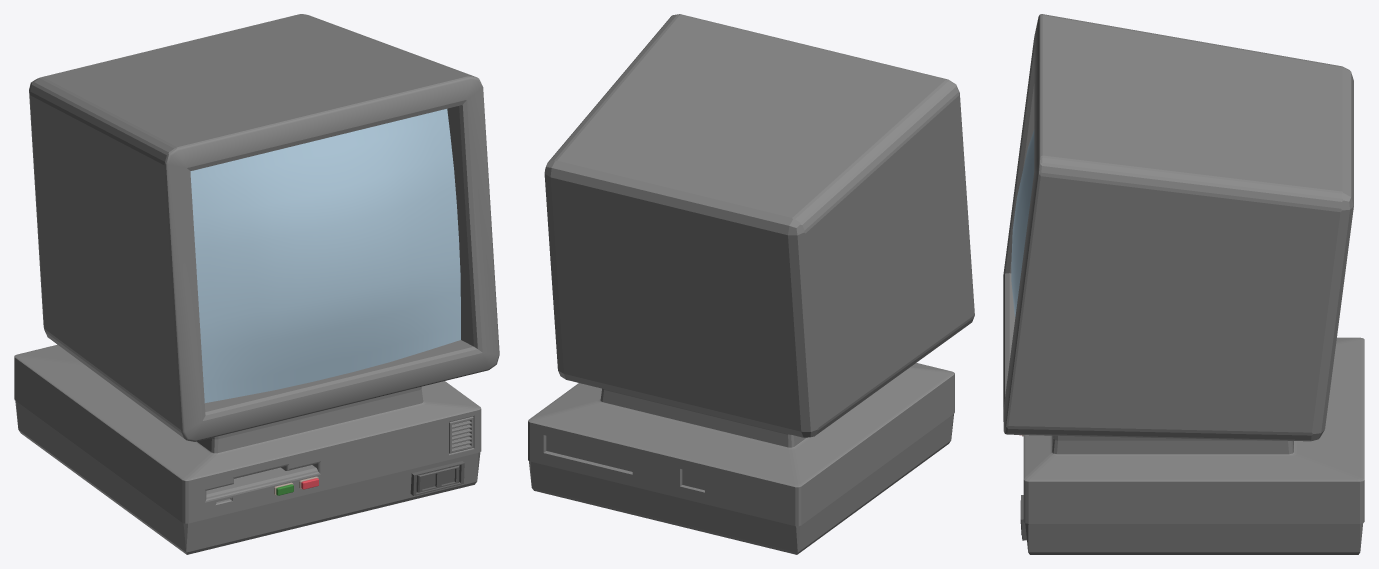
The model's file is Monitor.glb.
The picture shows the model from 3 angles, left to right: view 1: azimuth 30°, elevation 25°; view 2: azimuth 150°, elevation 25°; view 3: azimuth 270°, elevation 25°; orthographic projection. The views are drawn at different scales.
Parts seen in each view (by area): view 1: PC_base; view 2: PC_base; view 3: PC_base.
Part boxes in pixels (x1,y1,x2,y2): PC_base: (14, 14, 499, 554); PC_base: (528, 14, 974, 554); PC_base: (1003, 14, 1364, 554).
Bounding box in the file's own units: 0.2844 × 0.3461 × 0.2828.
